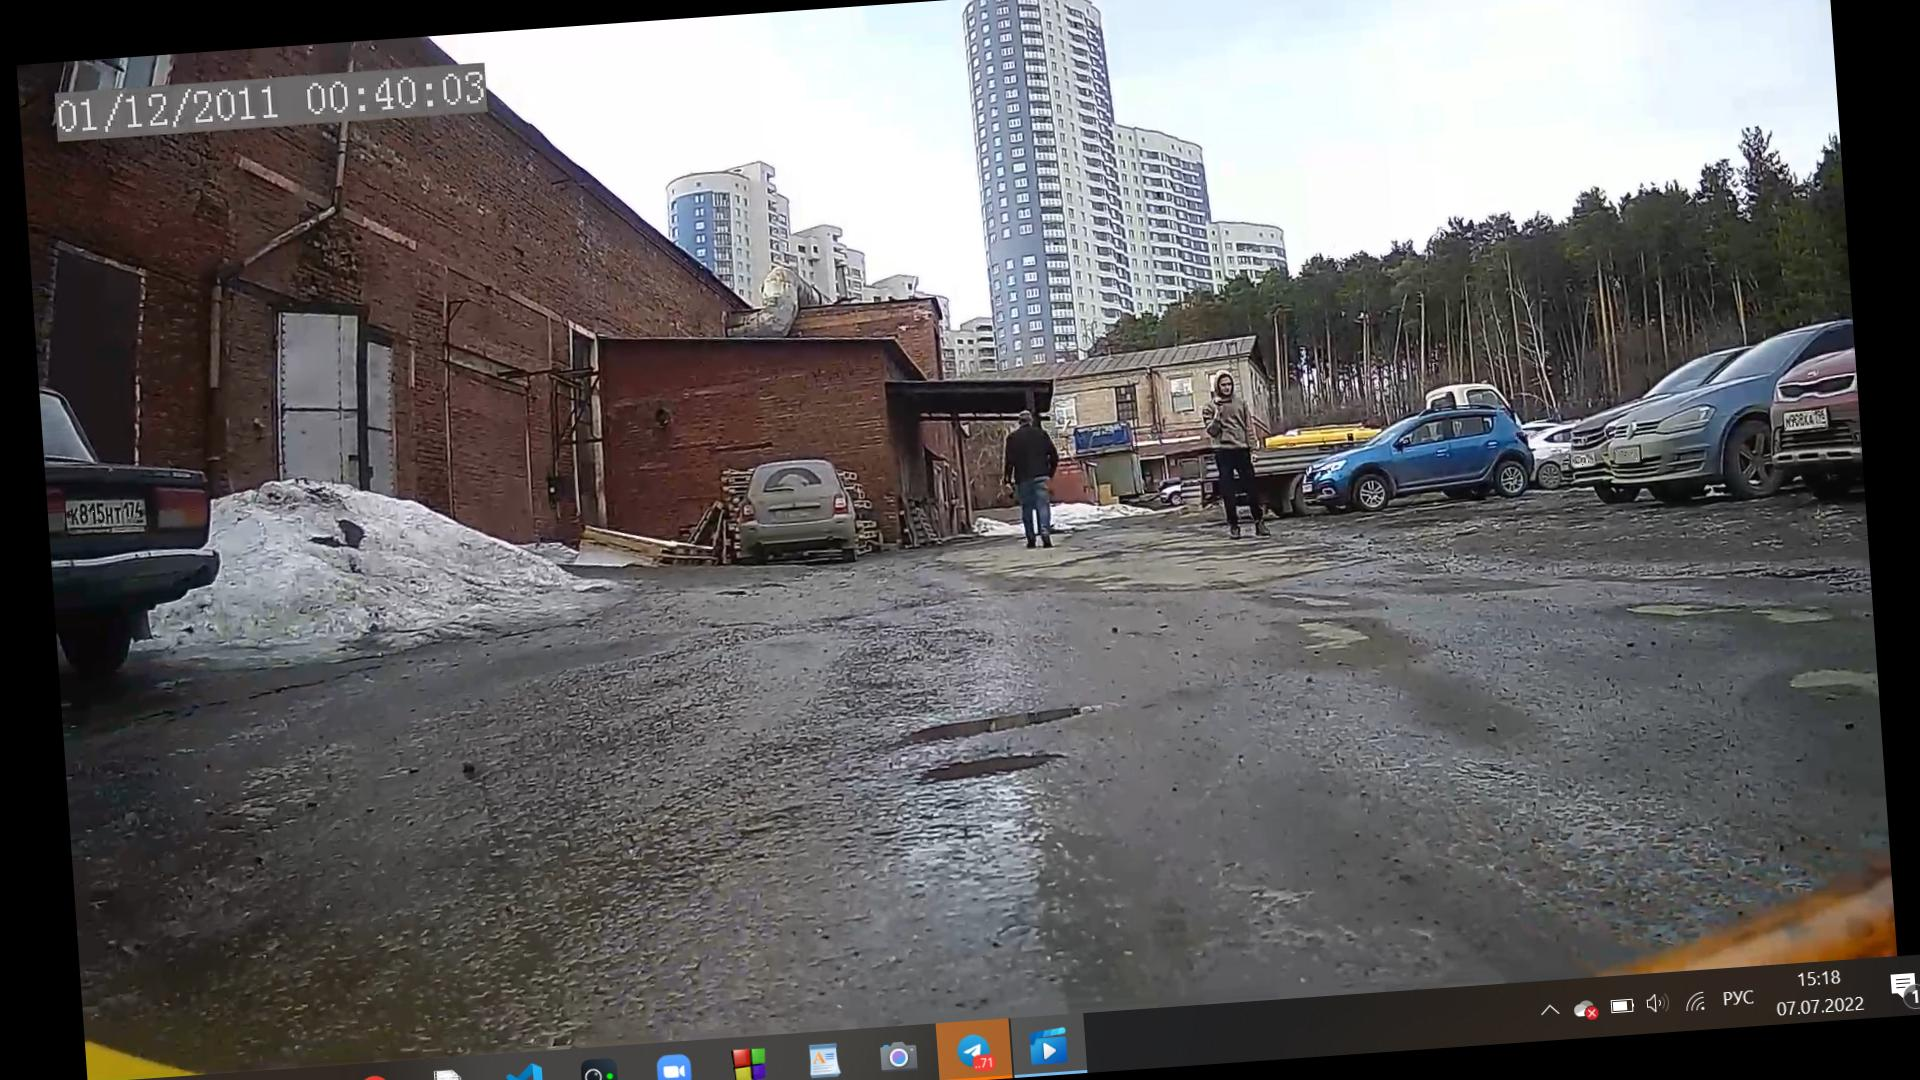plate: (67, 499, 147, 530), (1783, 412, 1829, 431), (1614, 448, 1646, 462), (1573, 455, 1593, 468)
